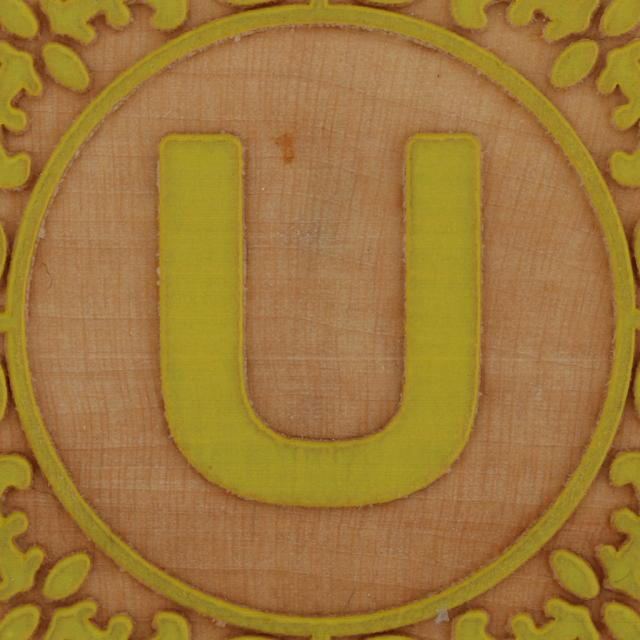U: (145, 108, 497, 520)
